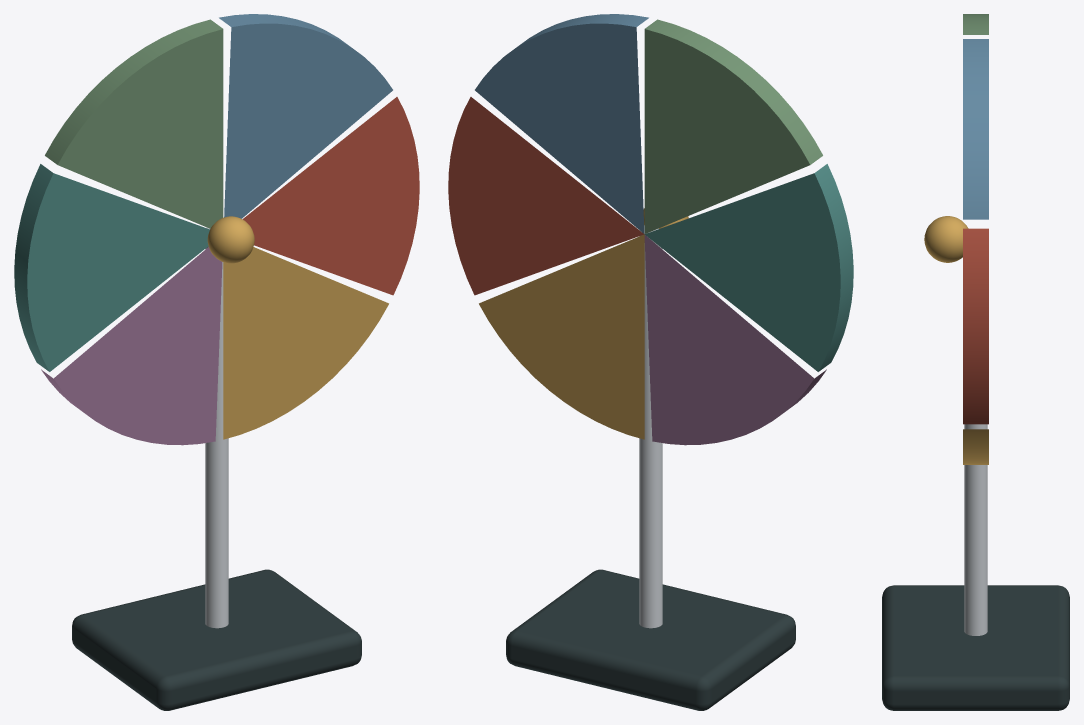
The model's file is emotions.glb.
The picture shows the model from 3 angles, left to right: view 1: azimuth 30°, elevation 25°; view 2: azimuth 150°, elevation 25°; view 3: azimuth 270°, elevation 25°; orthographic projection.
Visible parts, largest first — view 1: emotions; view 2: emotions; view 3: emotions.
Boxes of the visible parts, <box> form: emotions: <box>14,14,419,710</box>; emotions: <box>448,14,853,710</box>; emotions: <box>882,14,1069,710</box>.
Bounding box in the file's own units: 0.9598 × 1.48 × 0.4.
